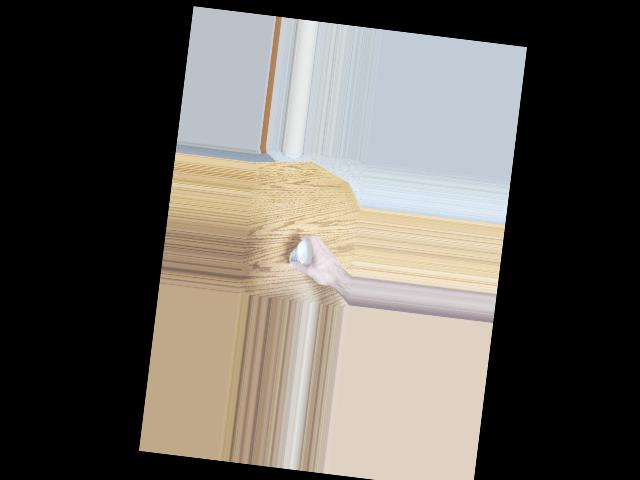cotage: (288, 239, 316, 274)
